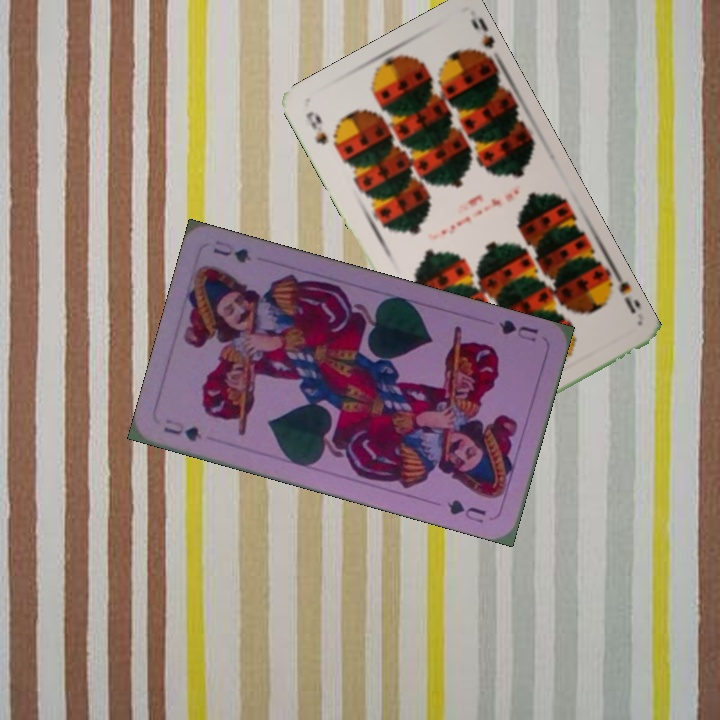GU: (159, 414, 205, 445), (495, 316, 541, 345)
S9: (598, 270, 642, 316), (301, 107, 331, 148)
